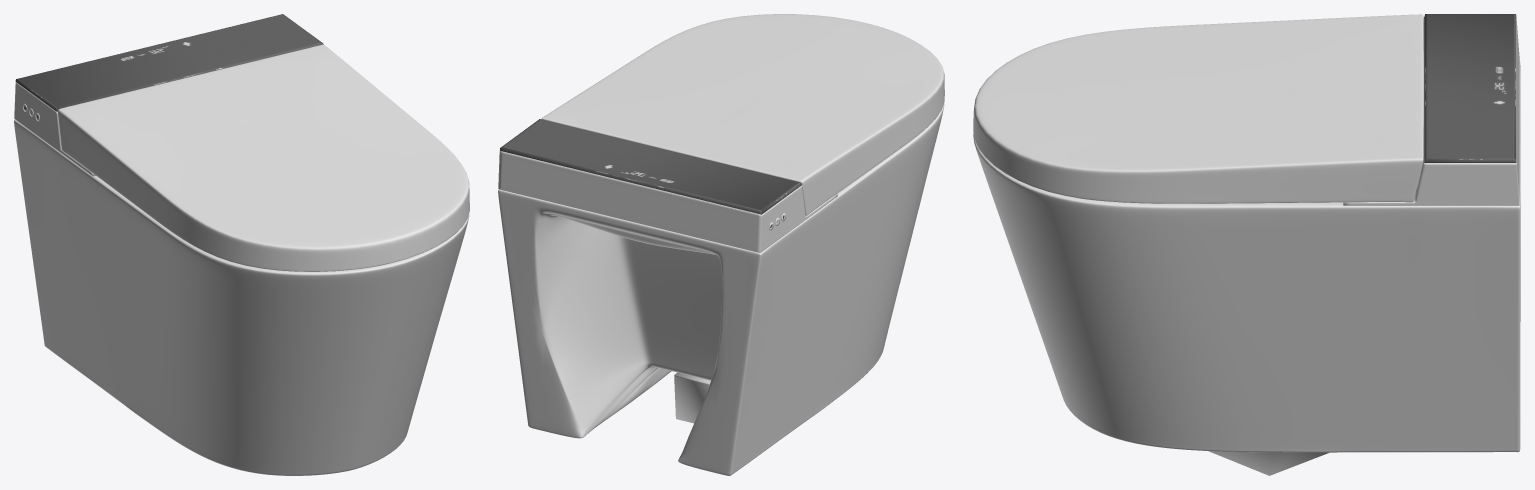
File: toilet_web.glb
3 views of the same model, side by side, from view 1: azimuth 30°, elevation 25°; view 2: azimuth 150°, elevation 25°; view 3: azimuth 270°, elevation 25° (orthographic). The views are drawn at different scales.
Parts seen in each view (by area): view 1: Box001, Cover; view 2: Box001, Cover; view 3: Box001, Cover.
Part boxes in pixels (x1,y1,x2,y2): Box001: (14, 14, 469, 475); Cover: (58, 44, 469, 271); Box001: (498, 103, 944, 475); Cover: (541, 14, 944, 215); Box001: (973, 14, 1520, 475); Cover: (973, 14, 1423, 203).
Size of the model in its own units: 1.01 by 1.2 by 1.59.
18 materials, 4 textured.
